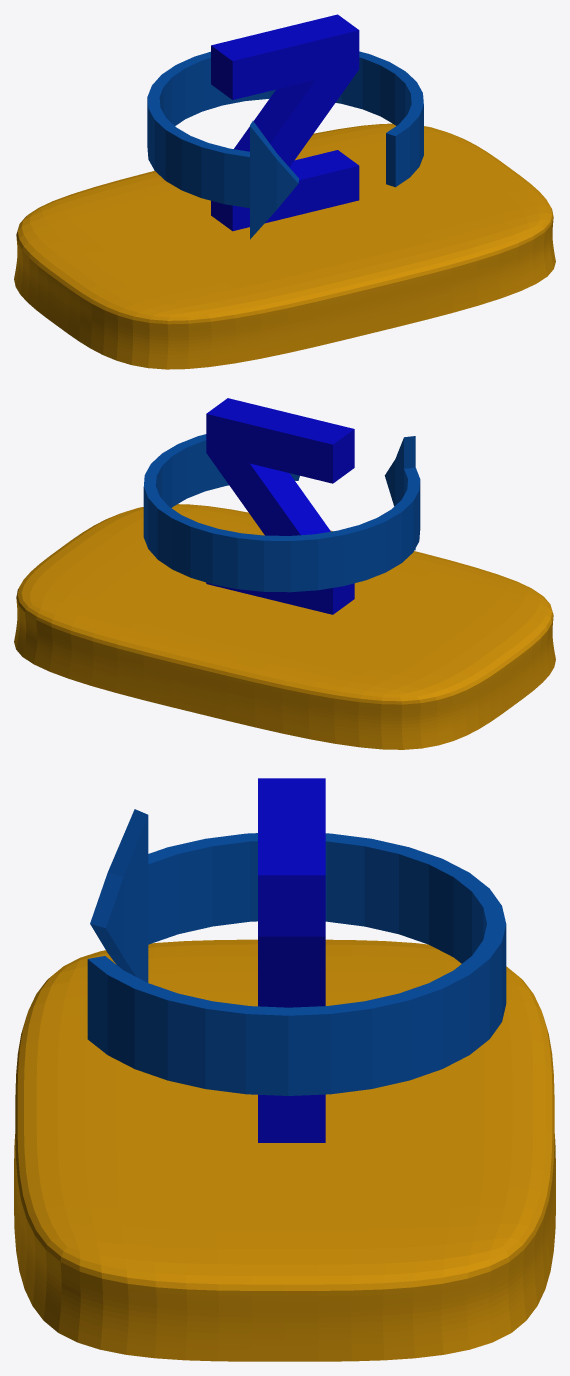
Rendered from rotate_Z_btn.obj.
3 views of the same model, one above another, from view 1: azimuth 30°, elevation 25°; view 2: azimuth 150°, elevation 25°; view 3: azimuth 270°, elevation 25° (orthographic). The views are drawn at different scales.
Parts seen in each view (by area): view 1: Cube; view 2: Cube; view 3: Cube.
Boxes of the visible parts, box(x1,y1,x2,y2) form: Cube: box(14, 14, 555, 369); Cube: box(14, 398, 555, 749); Cube: box(14, 778, 555, 1361).
Size of the model in its own units: 17.54 by 8.48 by 11.5.
